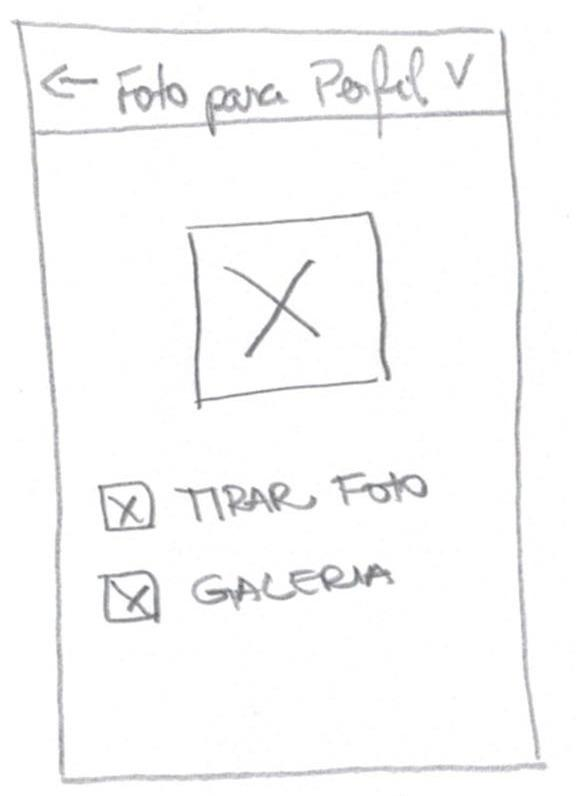Button: (39, 63, 100, 102), (438, 51, 479, 91)
CheckBox: (97, 468, 429, 535), (96, 561, 395, 624)
Image: (184, 211, 392, 410)
Label: (106, 45, 435, 118)
Screen: (16, 17, 546, 787)
